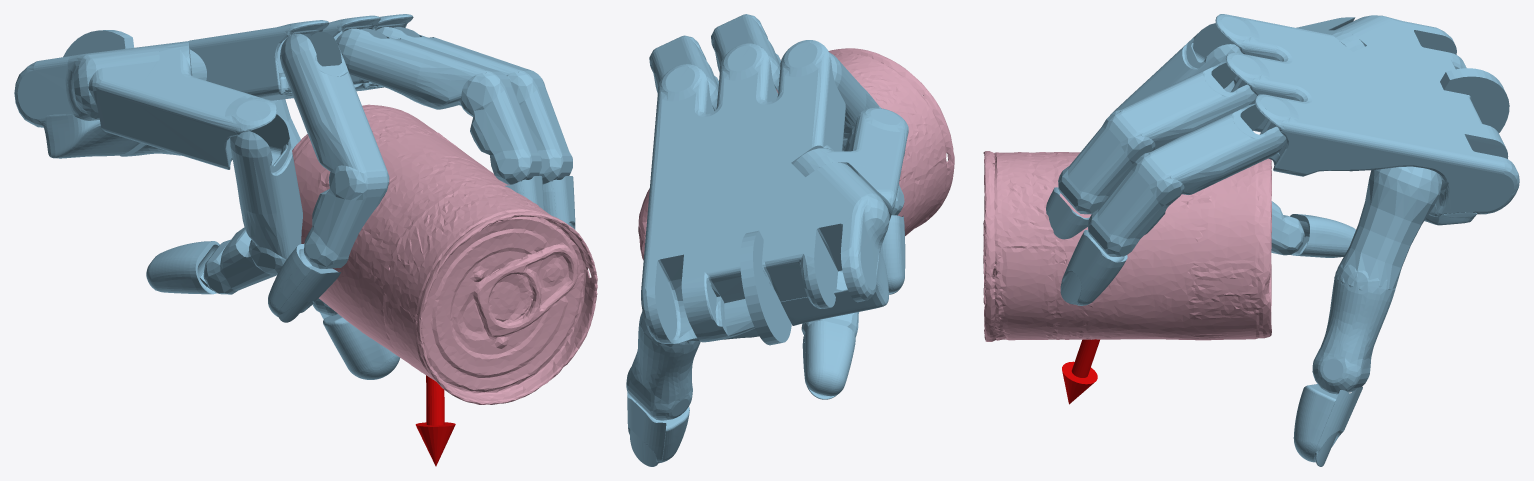
3 views of the same model, side by side, from view 1: azimuth 30°, elevation 25°; view 2: azimuth 150°, elevation 25°; view 3: azimuth 270°, elevation 25° (orthographic). The views are drawn at different scales.
Visible parts, largest first — view 1: world, tomato_soup_can.stl; view 2: world, tomato_soup_can.stl; view 3: world, tomato_soup_can.stl.
Part boxes in pixels (x1,y1,x2,y2): world: (14,14,575,466); tomato_soup_can.stl: (292,104,597,404); world: (626,14,908,466); tomato_soup_can.stl: (638,48,954,260); world: (1046,14,1519,466); tomato_soup_can.stl: (983,151,1271,341).
Bounding box in the file's own units: 0.1428 × 0.1537 × 0.1892.
